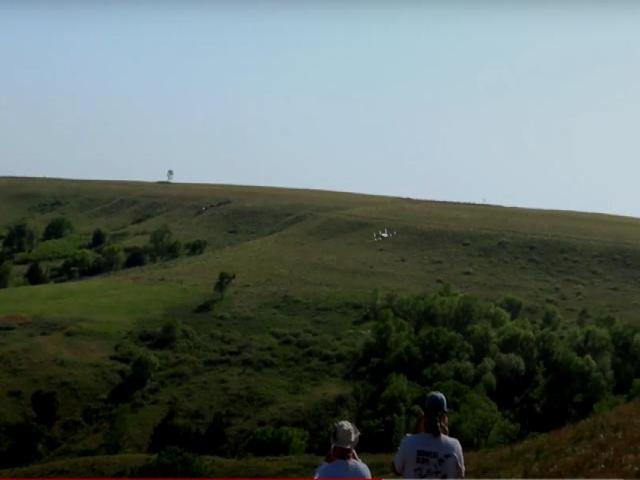iha: (364, 225, 398, 244)
